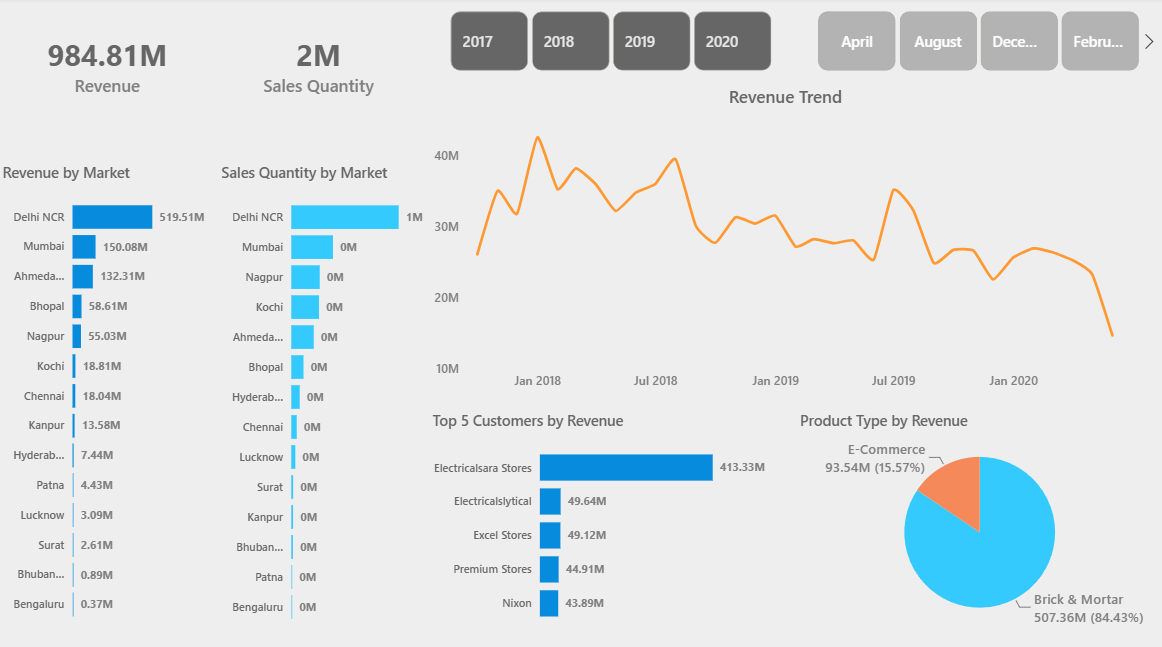

This screenshot's page, from the dashboard's own definition file:
{"tool":"powerbi","page":{"name":"Page 1","canvas":[1280,720],"ordinal":0},"visuals":[{"type":"cardVisual","fields":{"Data":["BaseMeasures.Revenue"]},"box":[0,0,240,150],"z":0},{"type":"cardVisual","fields":{"Data":["BaseMeasures.Sales Quantity"]},"box":[231.9,0,240,150],"z":1000},{"type":"barChart","title":"Revenue by Market","fields":{"Y":["BaseMeasures.Revenue"],"Category":["sales markets.markets_name"]},"box":[0,181.1,231.9,517.3],"z":2000},{"type":"barChart","title":"Sales Quantity by Market","fields":{"Y":["BaseMeasures.Sales Quantity"],"Category":["sales markets.markets_name"]},"box":[240.1,181.1,231.9,520.1],"z":3000},{"type":"advancedSlicerVisual","fields":{"Values":["sales date.year"]},"box":[472,11,403.4,75.5],"z":4000},{"type":"barChart","title":"Top 5 Customers by Revenue","fields":{"Y":["BaseMeasures.Revenue"],"Category":["sales customers.custmer_name"]},"box":[472,452.8,403.4,248.4],"z":6000},{"type":"pieChart","title":"Product Type by Revenue","fields":{"Category":["sales customers.customer_type"],"Y":["BaseMeasures.Revenue"]},"box":[875.5,452.8,404.8,248.4],"z":7000},{"type":"lineChart","title":"Revenue Trend","fields":{"Y":["BaseMeasures.Revenue"],"Category":["sales date.cy_date.Variation.Date Hierarchy.Year","sales date.cy_date.Variation.Date Hierarchy.Quarter","sales date.cy_date.Variation.Date Hierarchy.Month"]},"box":[473.4,96.1,782.2,344.4],"z":8000},{"type":"advancedSlicerVisual","fields":{"Values":["sales date.month_name"]},"box":[875.5,11,403.4,75.5],"z":8001}]}

Visuals, with their boxes in screenshot pixels (x1, y1, x2, y2), scaled from the page's 1280x720 canvas onto the 1162x647 screenshot:
cardVisual - BaseMeasures.Revenue: Rect(0, 0, 218, 135)
cardVisual - BaseMeasures.Sales Quantity: Rect(211, 0, 428, 135)
"Revenue by Market" barChart: Rect(0, 163, 211, 628)
"Sales Quantity by Market" barChart: Rect(218, 163, 428, 630)
advancedSlicerVisual - sales date.year: Rect(428, 10, 795, 78)
"Top 5 Customers by Revenue" barChart: Rect(428, 407, 795, 630)
"Product Type by Revenue" pieChart: Rect(795, 407, 1161, 630)
"Revenue Trend" lineChart: Rect(430, 86, 1140, 396)
advancedSlicerVisual - sales date.month_name: Rect(795, 10, 1161, 78)
